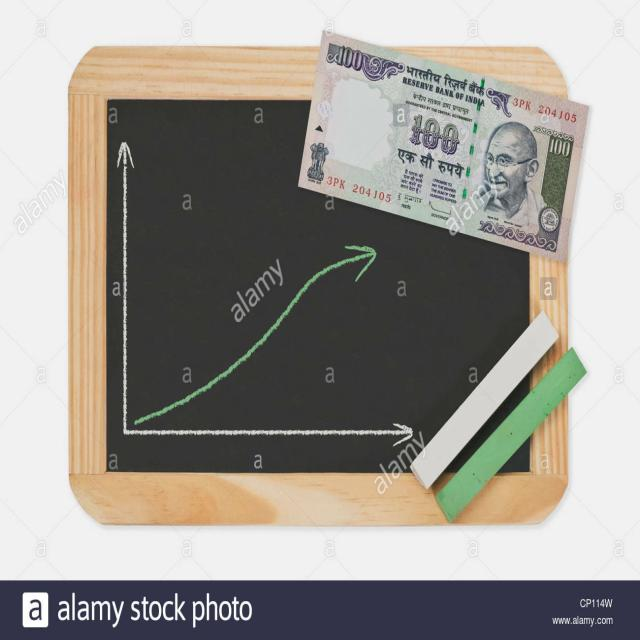100IndianRupees: (296, 27, 588, 264)
